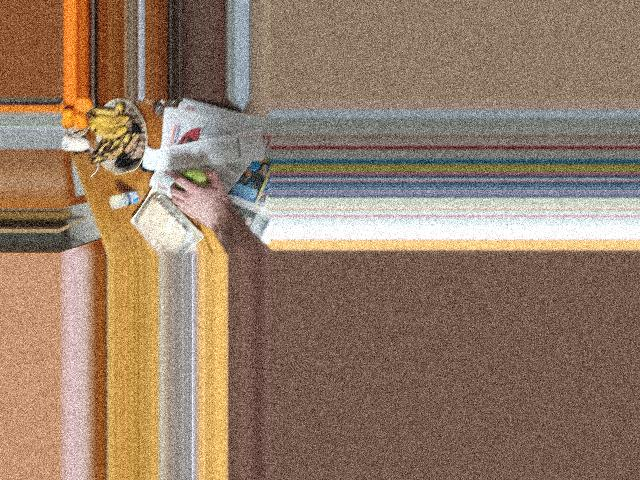apple: (175, 169, 214, 205)
